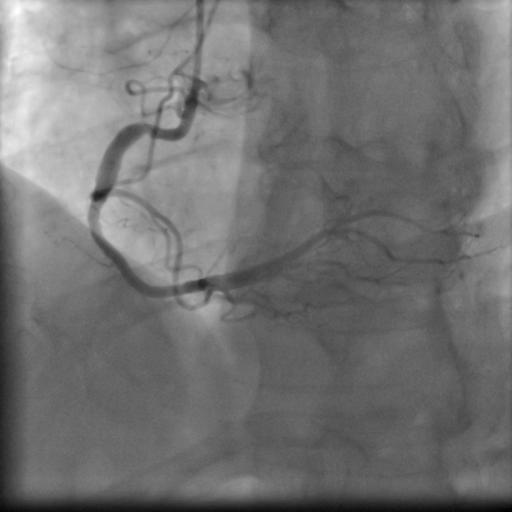Stenosis: (87, 203, 103, 230)
